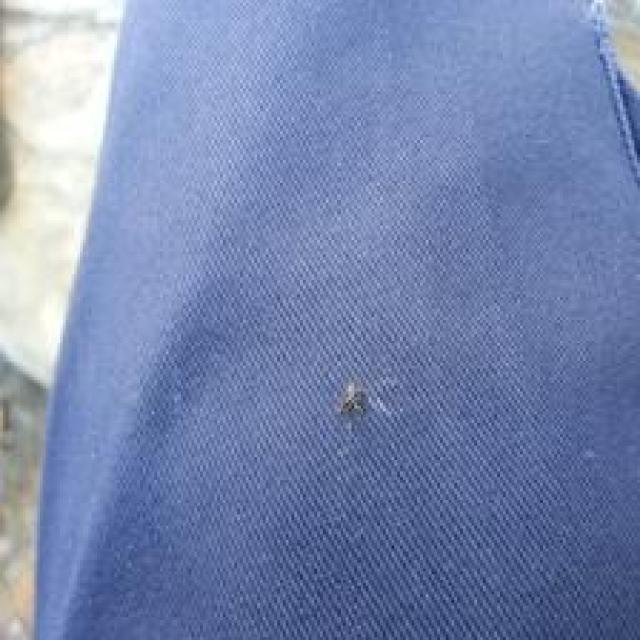Aedes albopictus: (337, 380, 369, 417)
